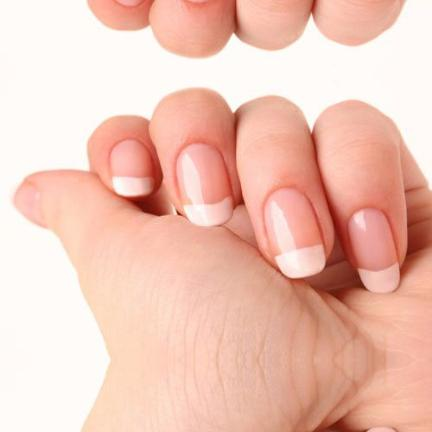Nail: (263, 186, 326, 278), (177, 142, 234, 225), (348, 208, 400, 293), (110, 139, 155, 196), (13, 181, 44, 226), (366, 426, 398, 432), (116, 0, 144, 5), (190, 0, 211, 2)
